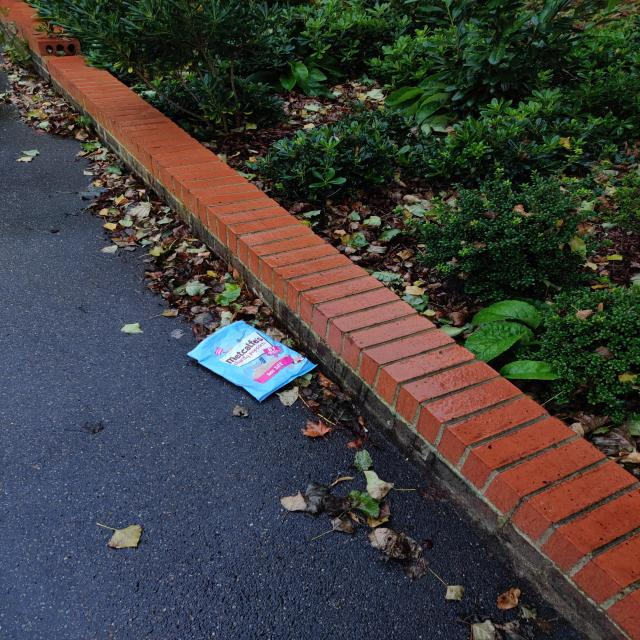litter: (191, 321, 312, 397)
